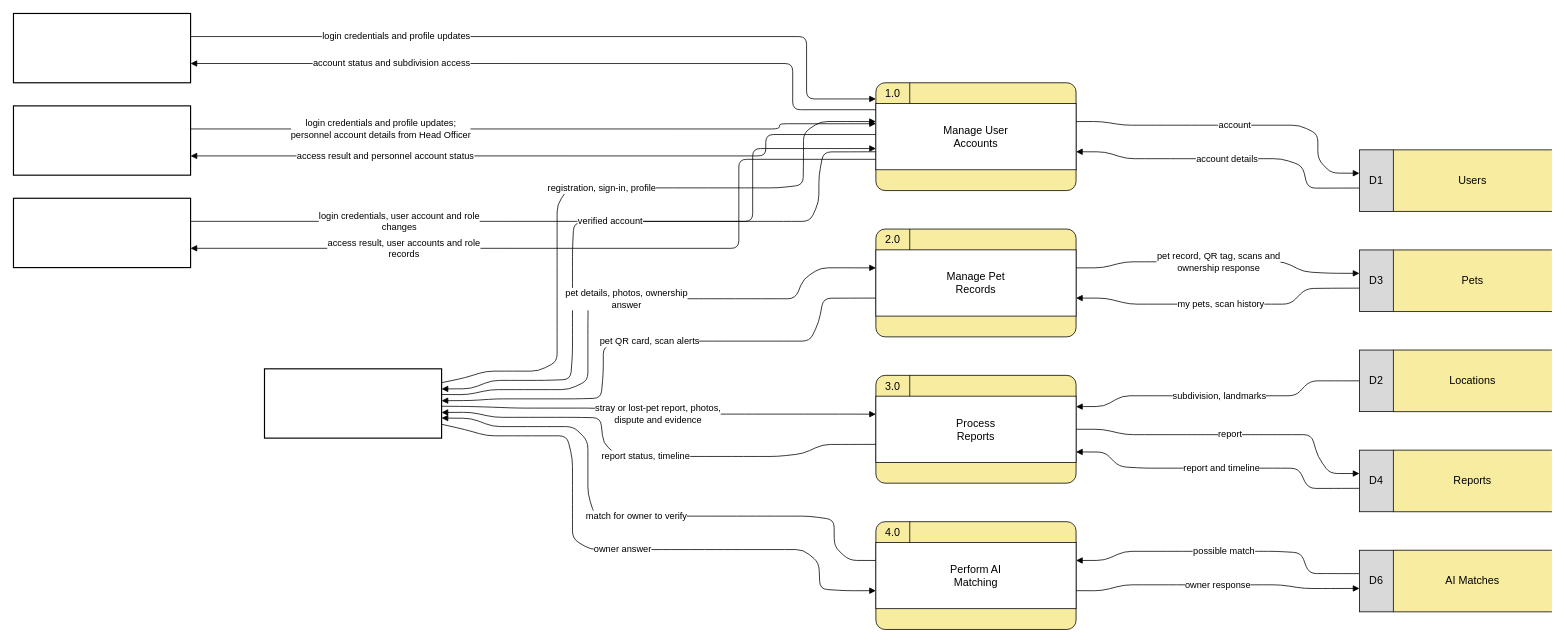
This 1567x644 diagram has some shape labels left out. The shapes that lost their labels are listed below. From the top down, each one's centre as x and y in pixels, then its label:
(x=102, y=48): Subdivision Leader
(x=102, y=140): Barangay Staff
(x=102, y=232): Administrator
(x=353, y=403): Resident
